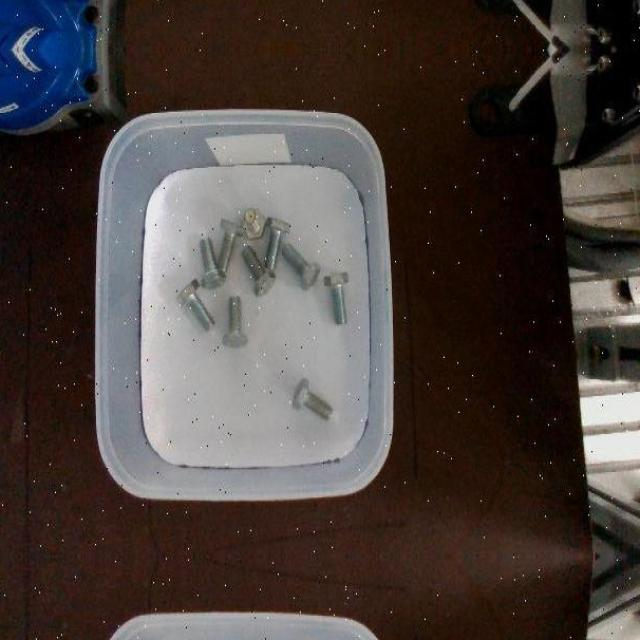screw: (177, 278, 216, 331), (281, 243, 320, 291), (292, 377, 334, 421), (240, 244, 276, 295), (264, 215, 290, 269), (200, 236, 226, 289), (324, 270, 349, 324), (223, 297, 248, 347), (241, 207, 265, 238)
